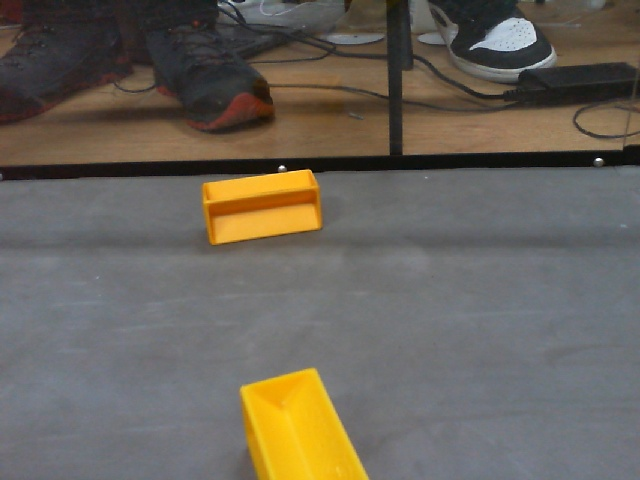YellowSample: (234, 364, 374, 480), (198, 167, 326, 249)
